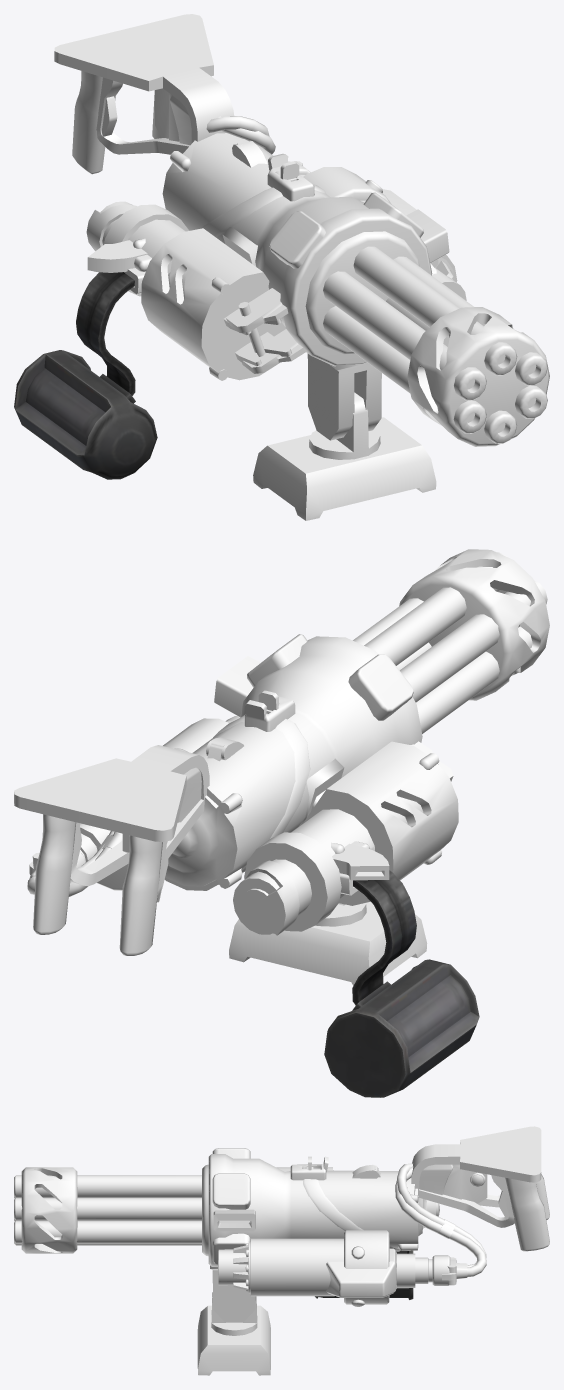
The model's file is Minigun.glb.
3 renders of one model, top to bottom at view 1: azimuth 30°, elevation 25°; view 2: azimuth 150°, elevation 25°; view 3: azimuth 270°, elevation 25°, orthographic. The views are drawn at different scales.
Parts seen in each view (by area): view 1: MingunHologram, BulletPouch, BulletString; view 2: MingunHologram, BulletPouch, BulletString; view 3: MingunHologram, BulletPouch.
Boxes of the visible parts, bbox=[...] form: MingunHologram: bbox=[54, 14, 549, 520]; BulletPouch: bbox=[14, 350, 157, 479]; BulletString: bbox=[76, 272, 135, 395]; MingunHologram: bbox=[14, 549, 549, 985]; BulletPouch: bbox=[324, 959, 479, 1097]; BulletString: bbox=[352, 870, 416, 1005]; MingunHologram: bbox=[14, 1126, 549, 1375]; BulletPouch: bbox=[315, 1250, 413, 1299].
Size of the model in its own units: 0.647 by 0.5083 by 1.21.
2 materials, 1 textured.
